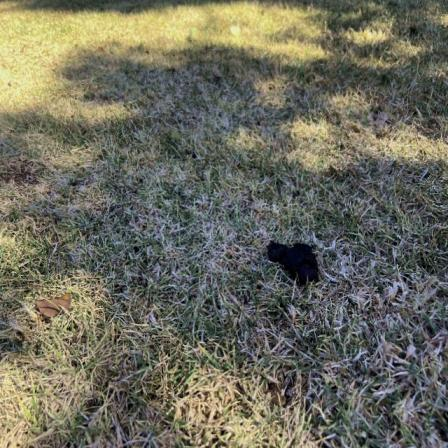dog-poop: (265, 232, 330, 285)
